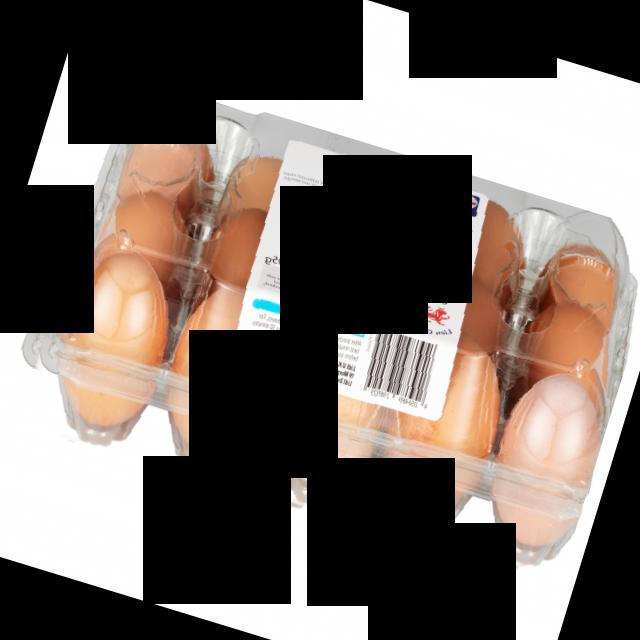eggs: (0, 64, 640, 590)
